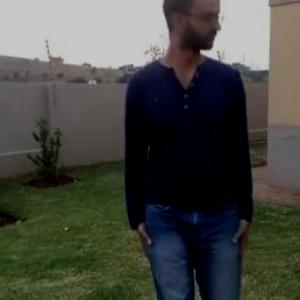follow: (126, 0, 254, 299)
